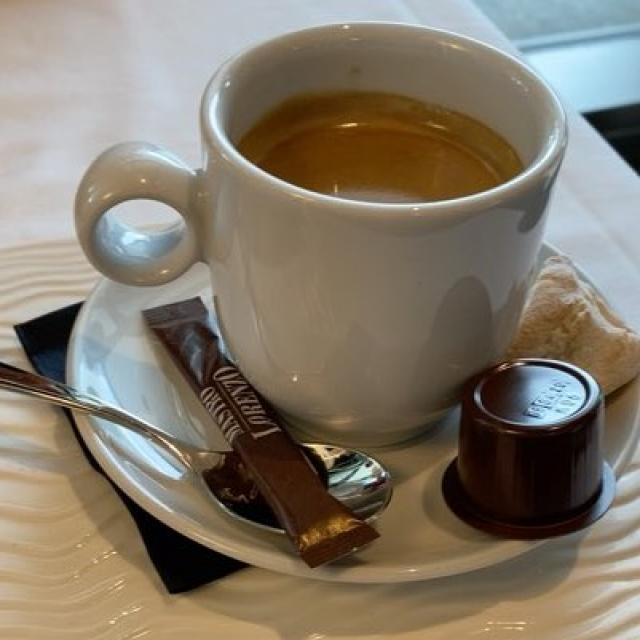espresso: (245, 90, 521, 201)
